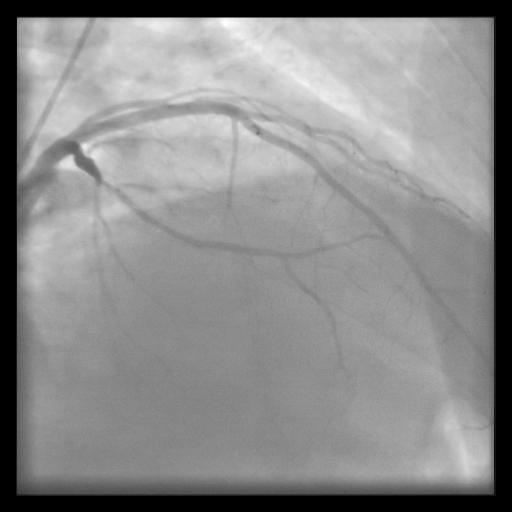Stenosis: (90, 168, 122, 192)
